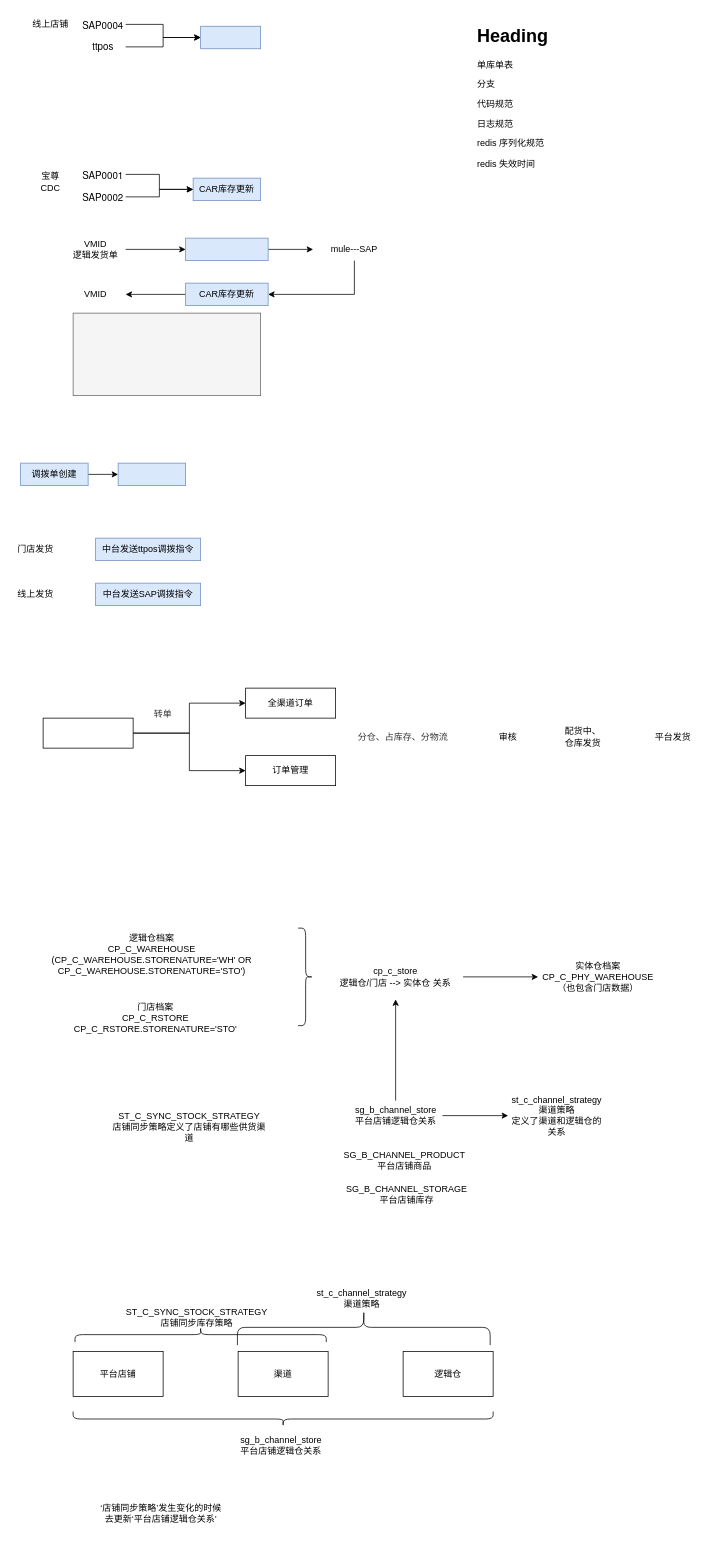
Image size: 708x1556. Some labels were removed from this diagram. The shapes that lost their labels are listed below. From the top down, each one's box as (x1, y1, x2, y2) in pixels, then its label:
(200, 26, 261, 49): 库存变动接口
(185, 237, 268, 261): CAR库存流水变动
(72, 312, 261, 396): Ttpos o2o 下单的时候不管库存，下单成功后取消要减掉对应库存。（因为ttpos退的时候会增加一个库存，需要对冲） 下单成功前取消？
(117, 462, 186, 486): 预占调拨更新
(42, 717, 133, 748): o2o待确认订单
